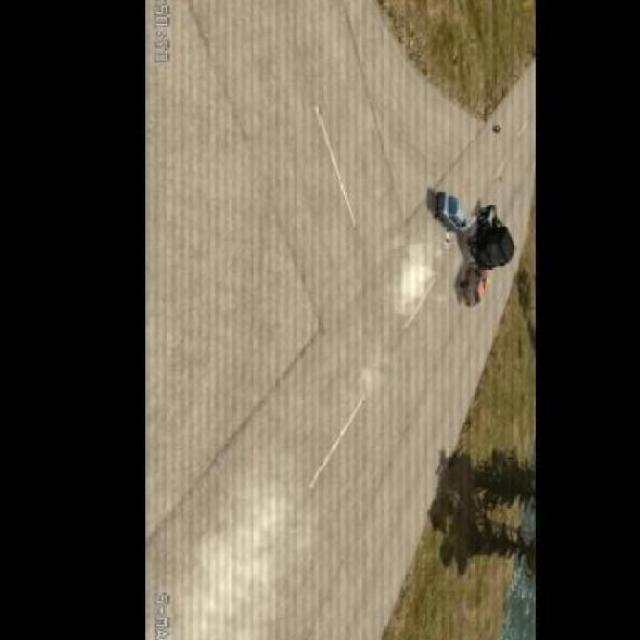accident: (434, 191, 506, 305)
